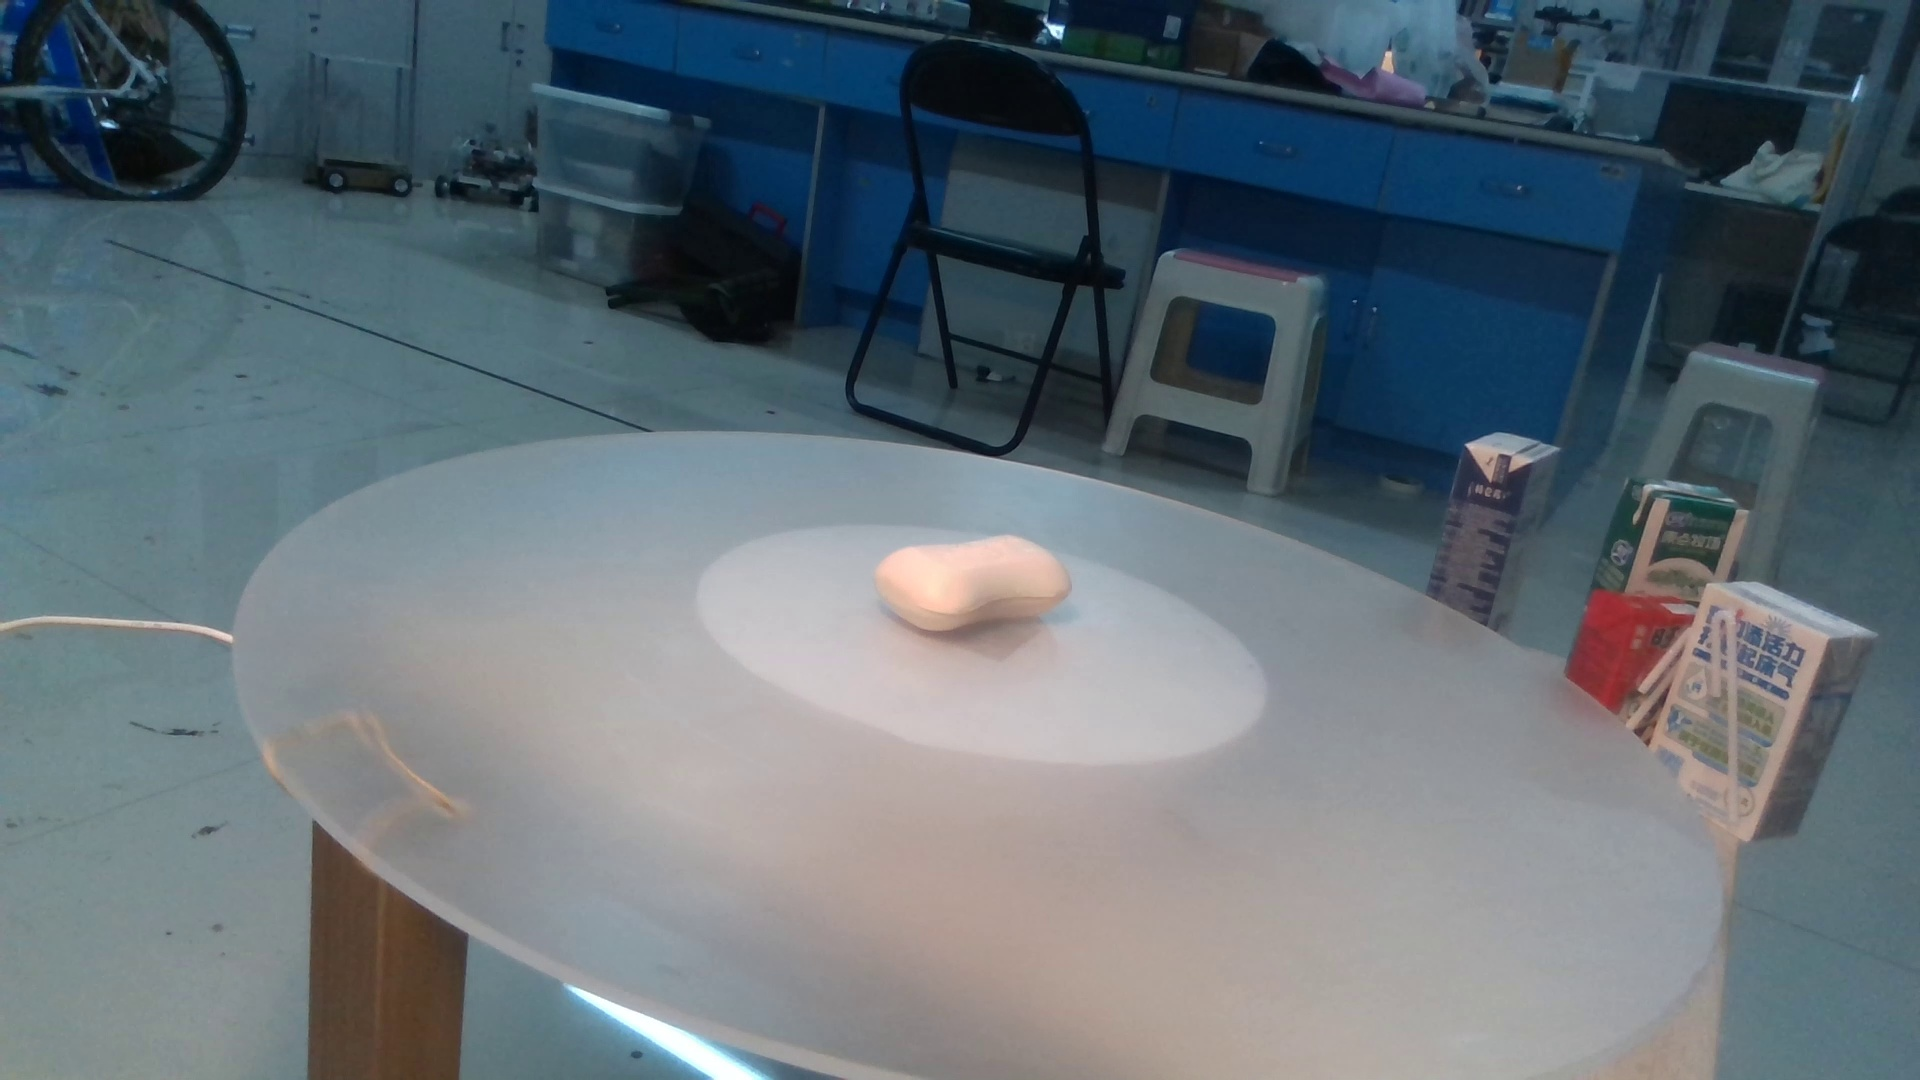CA003_1: (862, 502, 1073, 644)
